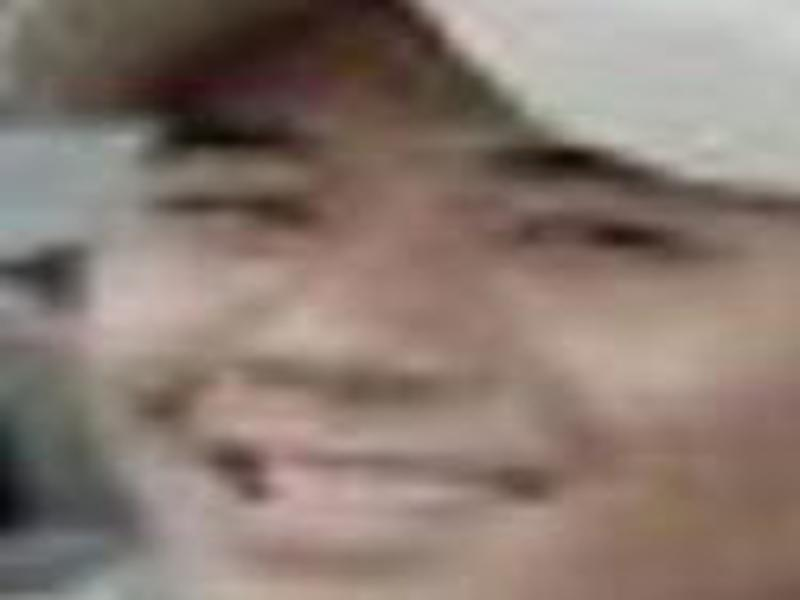without_mask: (83, 74, 800, 600)
